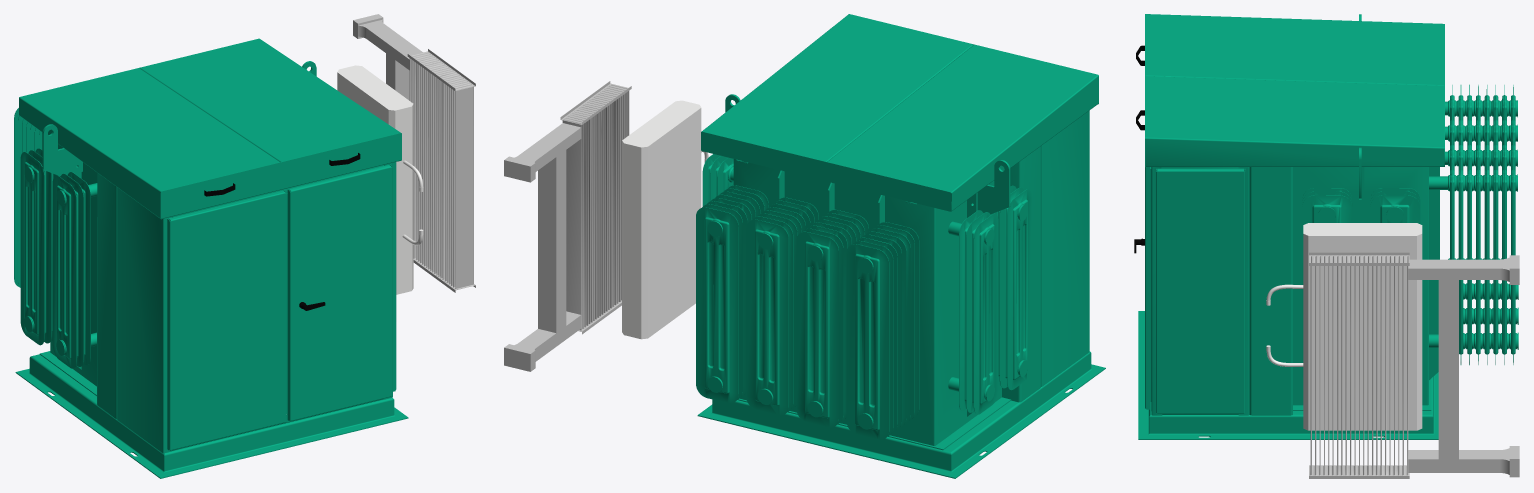
The picture shows the model from 3 angles, left to right: view 1: azimuth 30°, elevation 25°; view 2: azimuth 150°, elevation 25°; view 3: azimuth 270°, elevation 25°; orthographic projection. The views are drawn at different scales.
Visible parts, largest first — view 1: Body1 (×2), Body2, Body115; view 2: Body1 (×2), Body2; view 3: Body1 (×2), Body2.
Boxes of the visible parts, bbox=[...] form: Body1 (×2): bbox=[14, 14, 475, 478]; Body2: bbox=[337, 65, 423, 294]; Body115: bbox=[204, 153, 360, 310]; Body1 (×2): bbox=[504, 14, 1105, 478]; Body2: bbox=[622, 100, 708, 339]; Body1 (×2): bbox=[1138, 14, 1519, 478]; Body2: bbox=[1266, 223, 1422, 430].
Bounding box in the file's own units: 0.9892 × 0.6536 × 0.7604.
